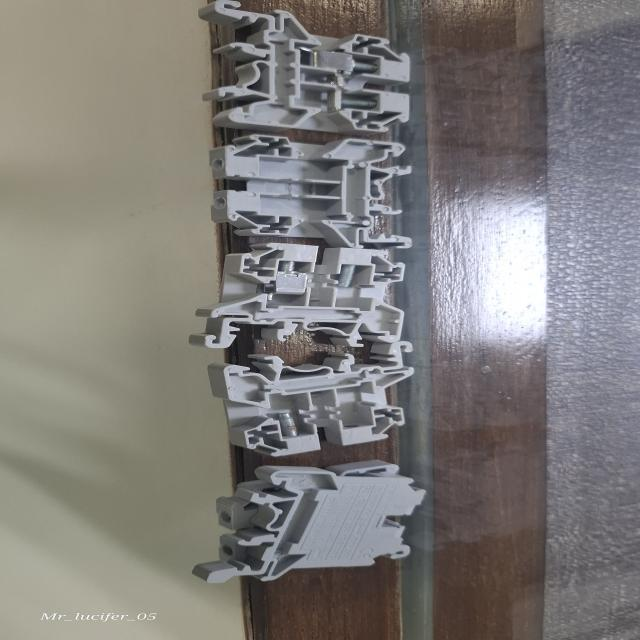Inverted: (197, 464, 408, 576)
Reject: (196, 0, 415, 134), (208, 133, 414, 249), (208, 342, 412, 455), (194, 242, 407, 349)
